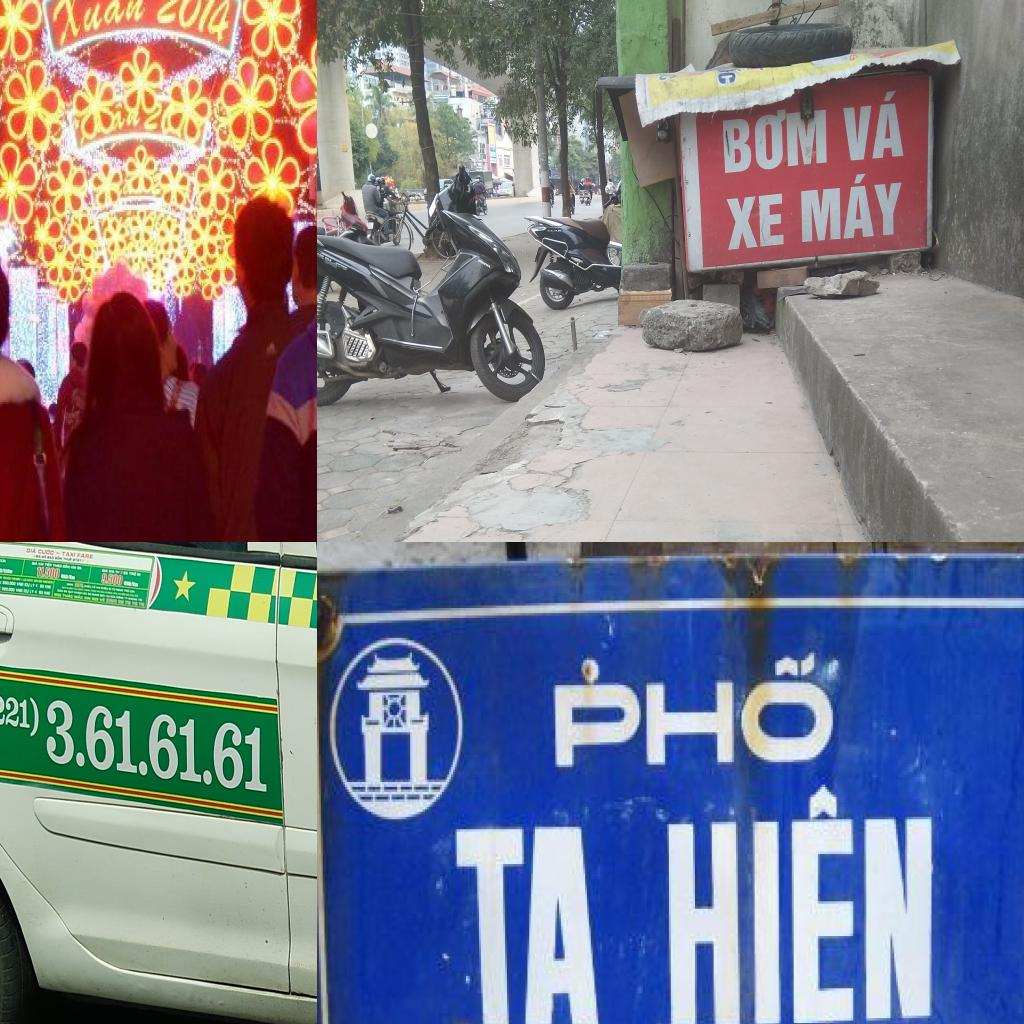text: (542, 640, 846, 782), (438, 814, 626, 1024), (44, 692, 270, 796), (798, 170, 904, 248), (720, 102, 830, 176), (836, 89, 908, 162), (50, 0, 149, 51), (724, 187, 788, 254), (0, 683, 42, 741), (323, 256, 349, 274), (100, 573, 124, 587), (35, 567, 61, 579), (717, 71, 737, 85), (478, 258, 492, 269), (38, 547, 55, 556), (76, 552, 94, 560), (60, 573, 77, 581), (124, 581, 140, 588), (62, 551, 76, 558), (317, 249, 325, 260), (546, 229, 563, 234), (26, 546, 36, 554), (54, 554, 64, 562), (71, 558, 84, 564), (62, 594, 74, 600), (44, 561, 53, 568), (53, 563, 63, 569), (74, 594, 84, 600), (129, 571, 137, 578), (16, 582, 24, 588), (44, 584, 52, 590), (15, 588, 23, 594), (101, 568, 109, 574), (63, 557, 72, 562), (53, 593, 62, 598), (0, 558, 6, 565), (23, 588, 30, 594), (44, 591, 51, 597), (108, 568, 115, 574), (41, 554, 47, 560), (24, 582, 30, 588), (30, 583, 36, 589), (29, 589, 35, 595), (71, 564, 77, 570), (33, 554, 41, 558), (46, 556, 54, 560), (39, 584, 45, 589), (38, 590, 44, 595), (38, 562, 44, 566), (56, 551, 60, 556)
